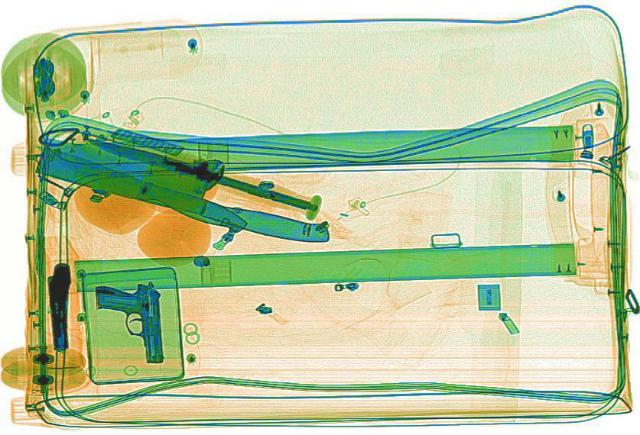Gun: (92, 280, 166, 364), (45, 262, 71, 351)
Knife: (18, 132, 350, 251), (18, 142, 255, 233), (80, 131, 316, 210)
